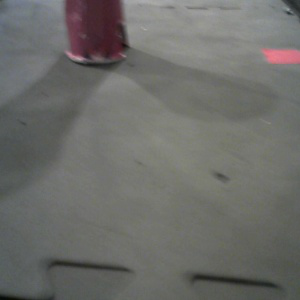Middle: (64, 1, 128, 64)
